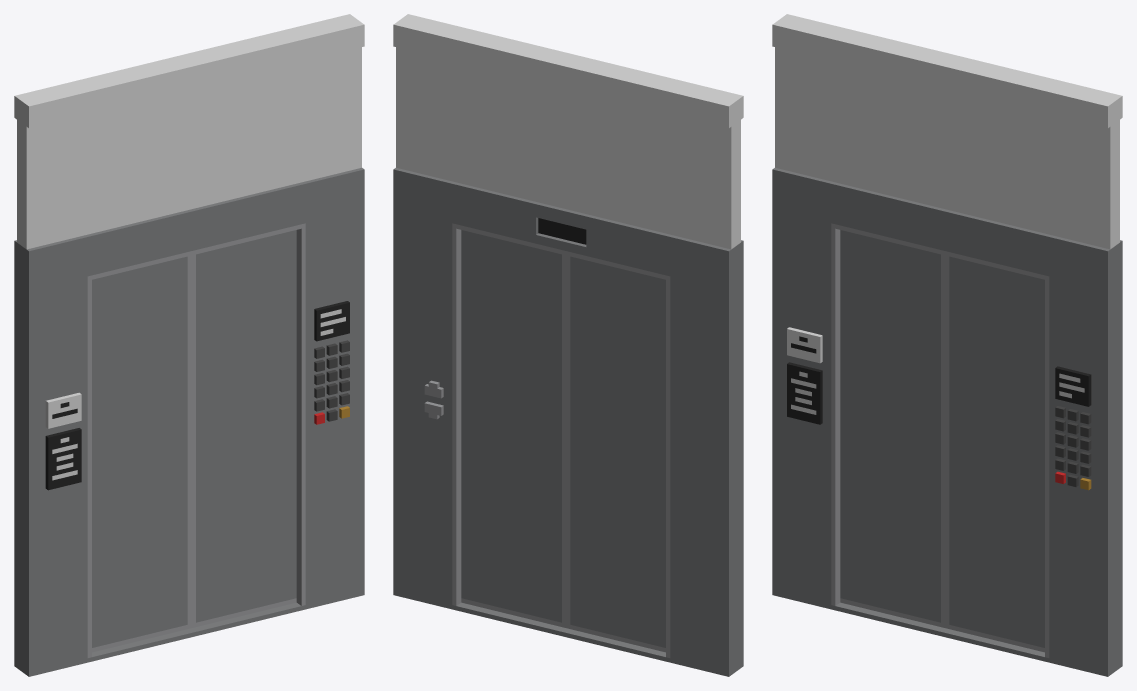
Rendered from wall_01_M_elevator.glb.
3 renders of one model, left to right at view 1: azimuth 30°, elevation 25°; view 2: azimuth 150°, elevation 25°; view 3: azimuth 330°, elevation 25°, orthographic.
Parts seen in each view (by area): view 1: Untitled.002, Untitled, Untitled.001; view 2: Untitled.002, Untitled, Untitled.001; view 3: Untitled.002, Untitled.001, Untitled.
Part boxes in pixels (<box>): Untitled.002: <box>14,14,364,676</box>; Untitled: <box>192,230,296,627</box>; Untitled.001: <box>92,255,191,652</box>; Untitled.002: <box>393,14,743,676</box>; Untitled: <box>461,230,565,627</box>; Untitled.001: <box>566,255,665,652</box>; Untitled.002: <box>772,14,1122,676</box>; Untitled.001: <box>840,230,944,627</box>; Untitled: <box>945,255,1044,652</box>.
Bounding box in the file's own units: 2.4 × 3.9 × 0.24.
Materials: 3 (3 with a texture image).
